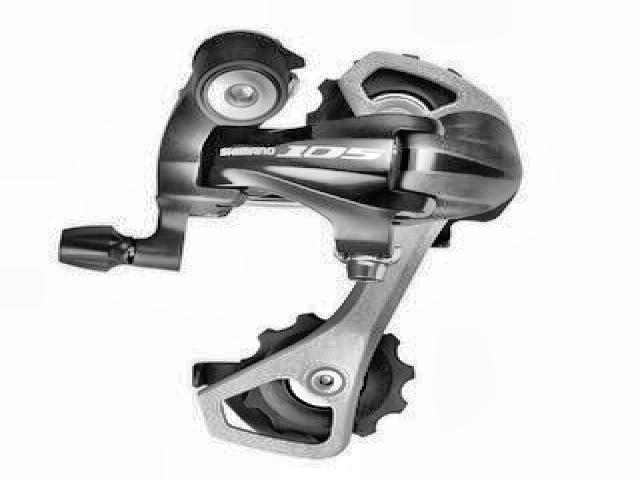rear_derailleur: (59, 28, 524, 464)
